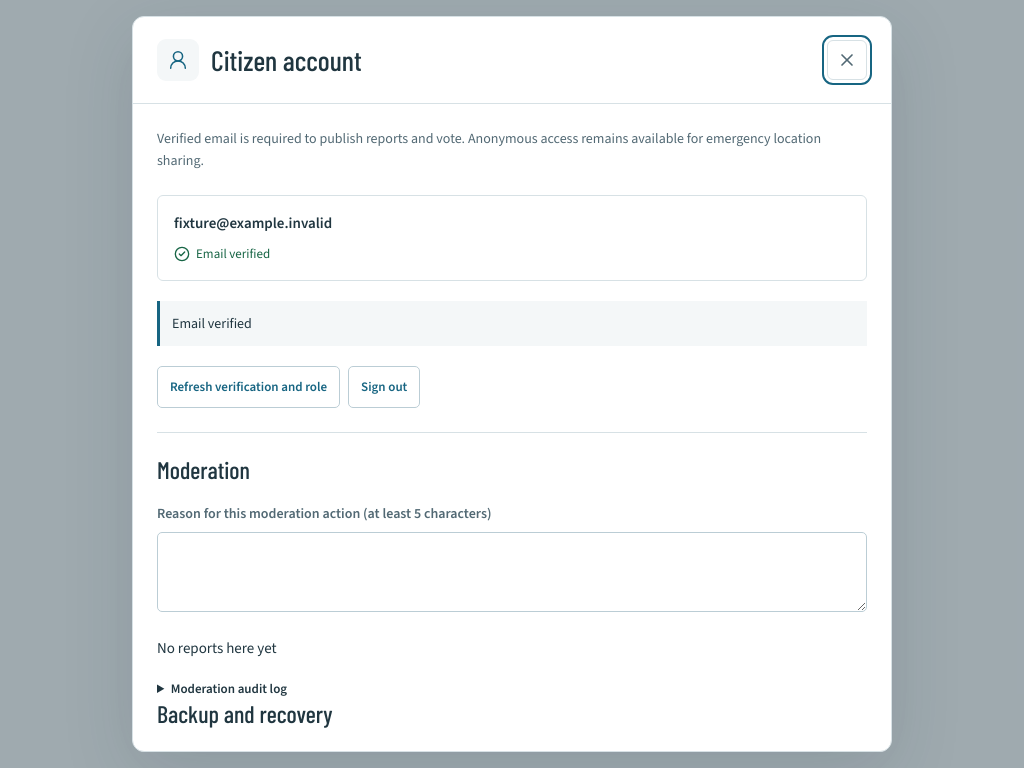
it: a failed operations refresh removes the previously healthy backup card and shows an error
Click the button "Refresh verification and role". click: point(249, 387)
box: [157, 366, 340, 408]
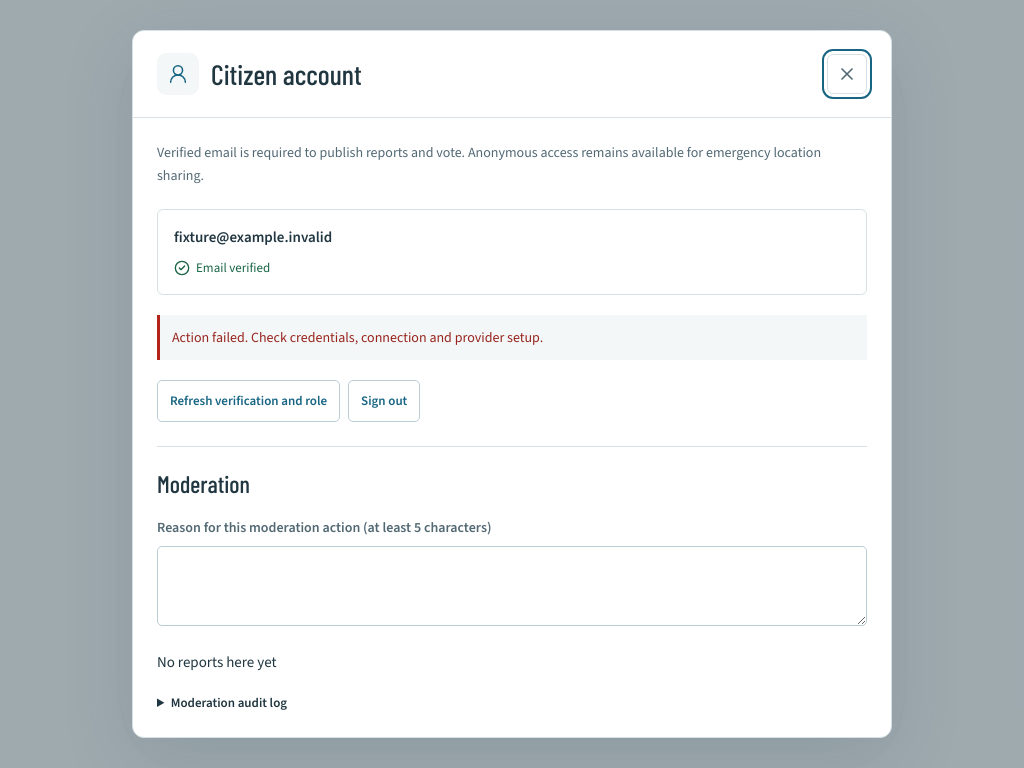
Now the text "Current verified snapshot" is gone
Now the message "Action failed. Check credentials, connection and provider setup." is shown, box [157, 315, 867, 360]
